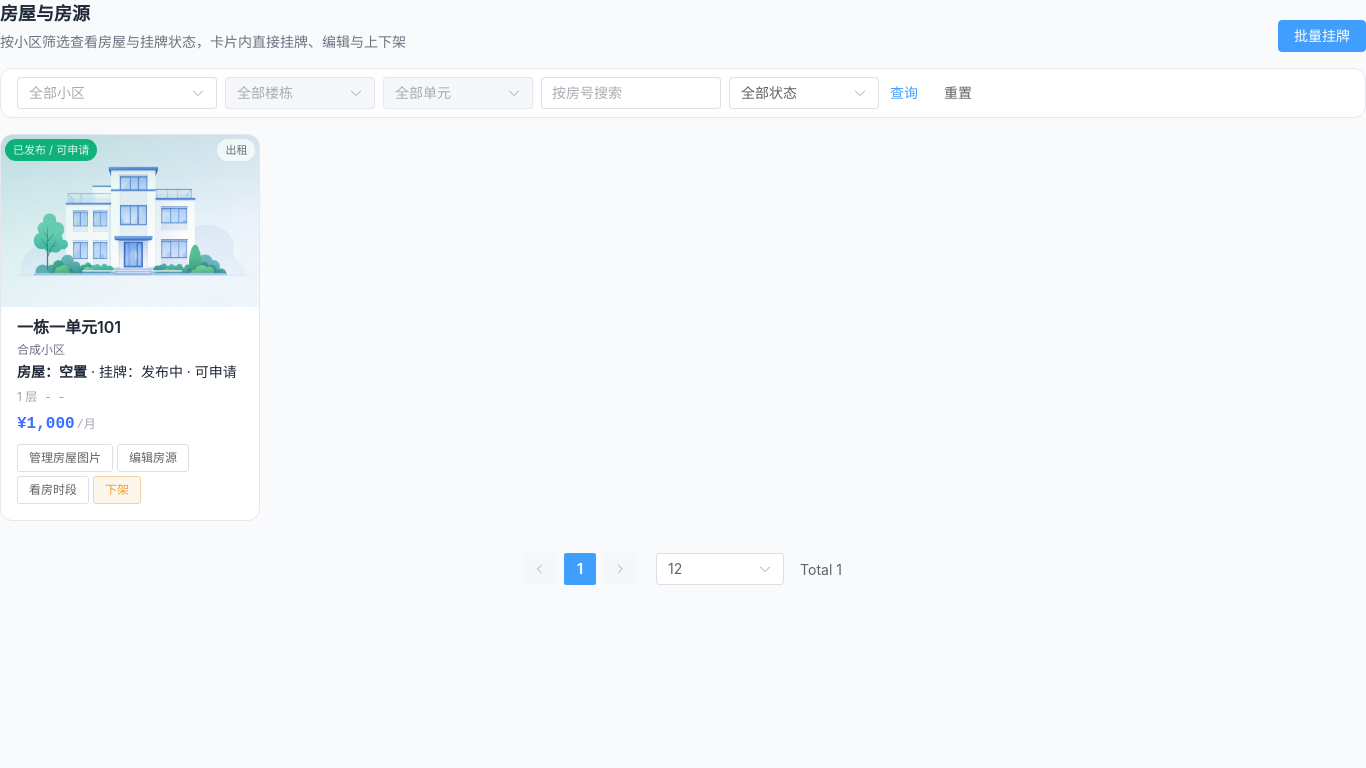
Test: 挂牌编辑加载门禁 › 加载失败不允许用空值保存，重试后恢复
Click the button "编辑房源".
click(153, 458)  # box [117,444,189,472]
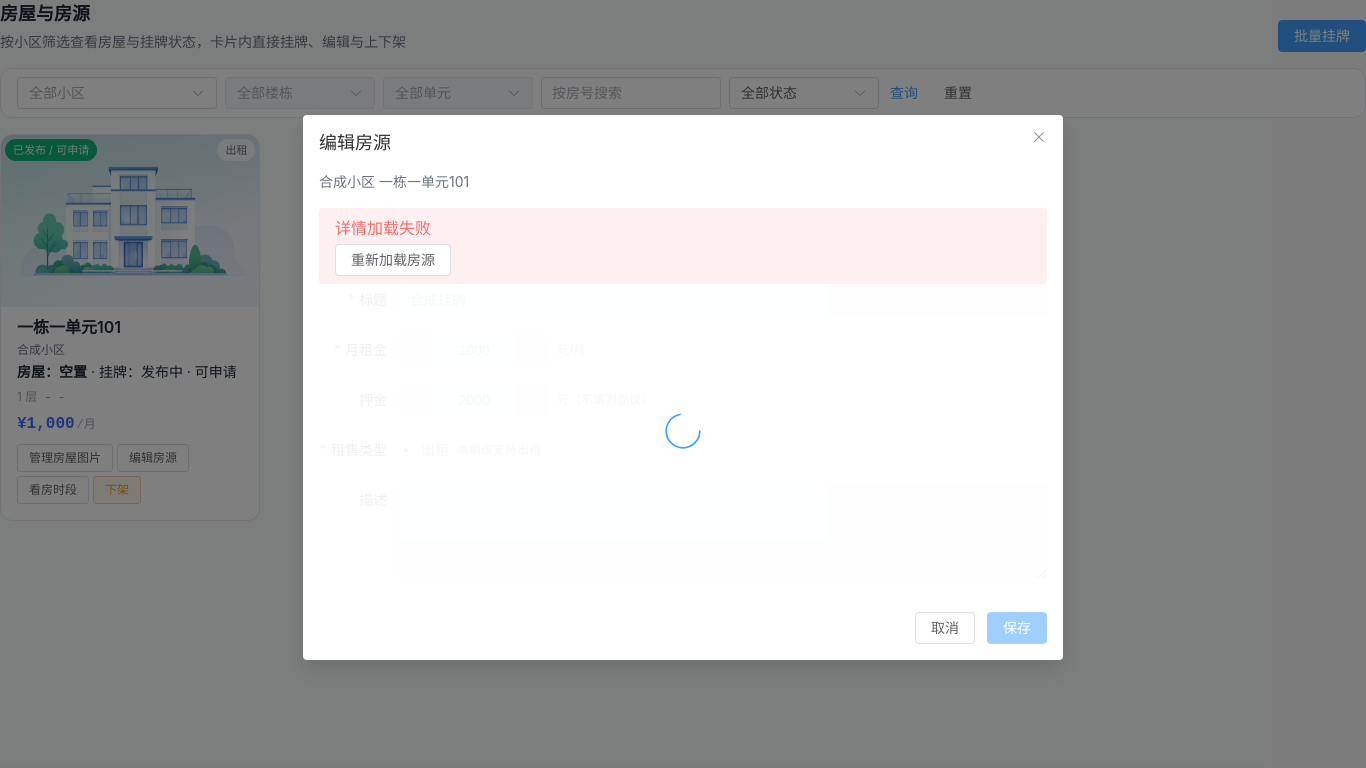
Expected: the button "保存" is disabled, [987,612,1047,644]
Click the button "重新加载房源".
click(393, 260)  # box [335,244,451,276]
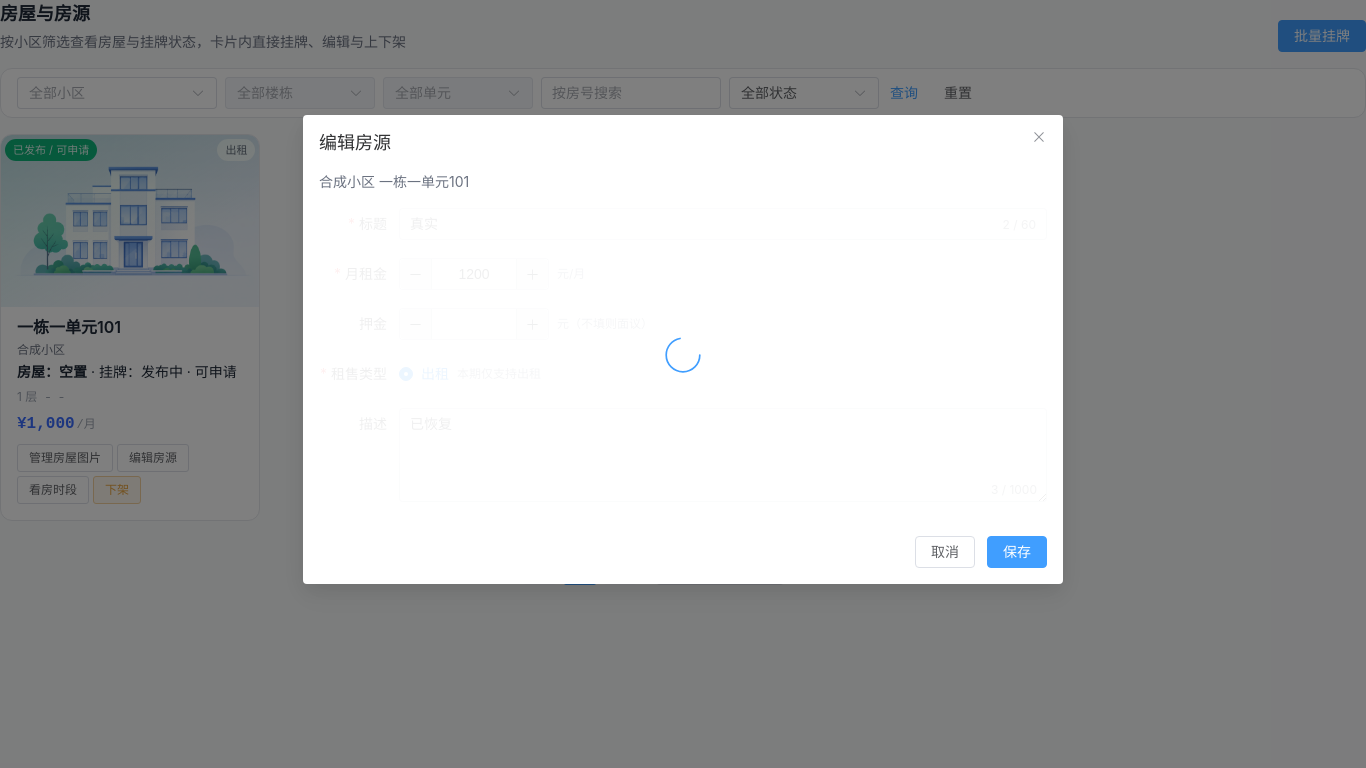
Expected: the button "保存" is enabled, [987,536,1047,568]
